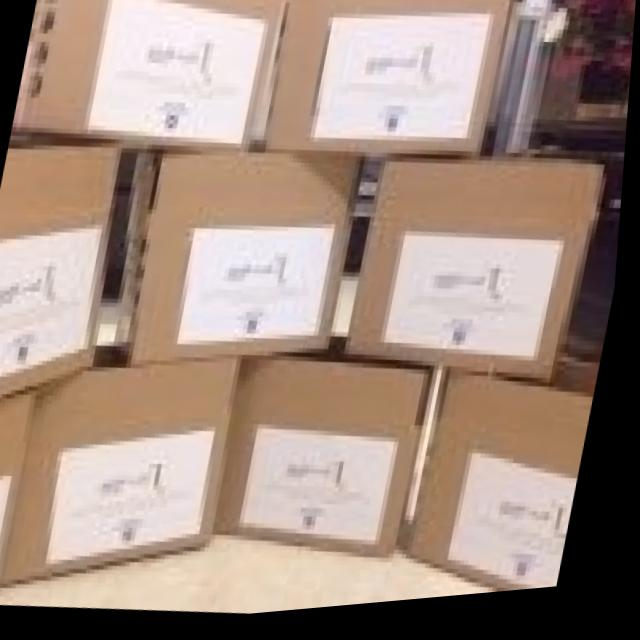box: (349, 160, 611, 393), (119, 145, 369, 366), (12, 348, 243, 584), (221, 343, 440, 566), (416, 372, 605, 602), (14, 0, 281, 157), (268, 0, 516, 161), (0, 143, 121, 401), (0, 387, 43, 594)
